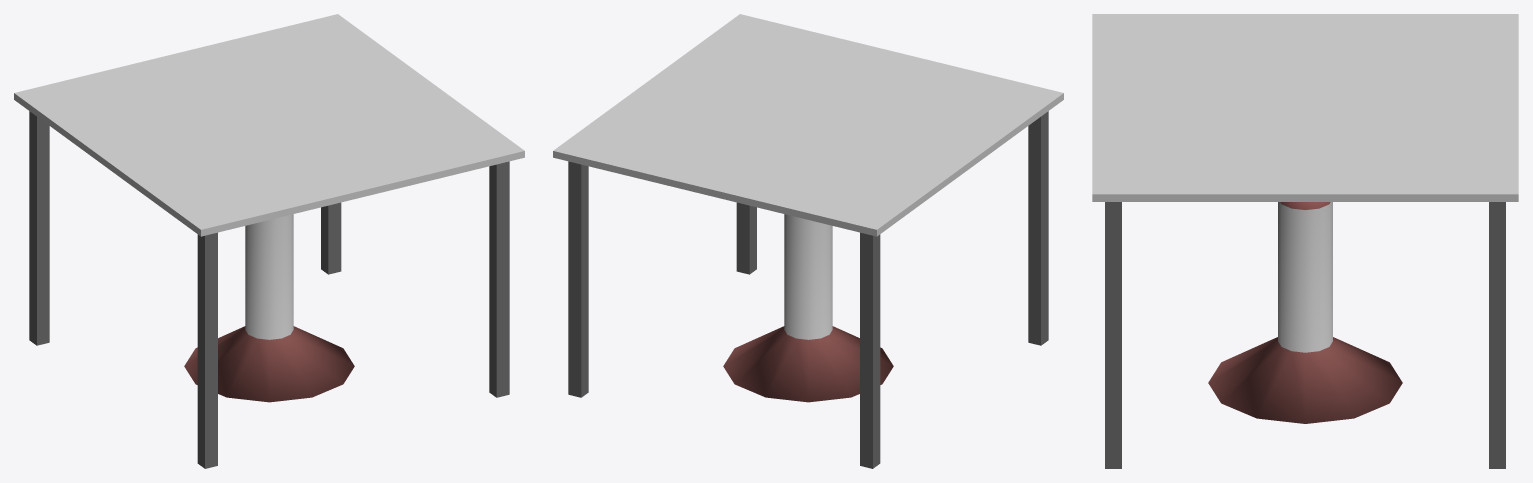
Rendered from Burner & Stand.fbx.
The picture shows the model from 3 angles, left to right: view 1: azimuth 30°, elevation 25°; view 2: azimuth 150°, elevation 25°; view 3: azimuth 270°, elevation 25°; orthographic projection. The views are drawn at different scales.
Parts seen in each view (by area): view 1: Stand, Burner; view 2: Stand, Burner; view 3: Stand, Burner.
Part boxes in pixels (left/top/right/bottom): Stand: left=14, top=14, right=524, bottom=468; Burner: left=184, top=214, right=354, bottom=402; Stand: left=553, top=14, right=1063, bottom=468; Burner: left=723, top=214, right=893, bottom=402; Stand: left=1092, top=14, right=1518, bottom=468; Burner: left=1208, top=202, right=1402, bottom=423.
Size of the model in its own units: 100 by 72.44 by 100.
